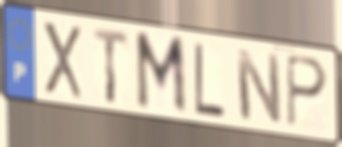L: (193, 39, 227, 121)
M: (133, 30, 189, 119)
N: (233, 46, 284, 127)
P: (284, 51, 330, 130)
T: (91, 25, 131, 107)
X: (40, 18, 85, 102)
